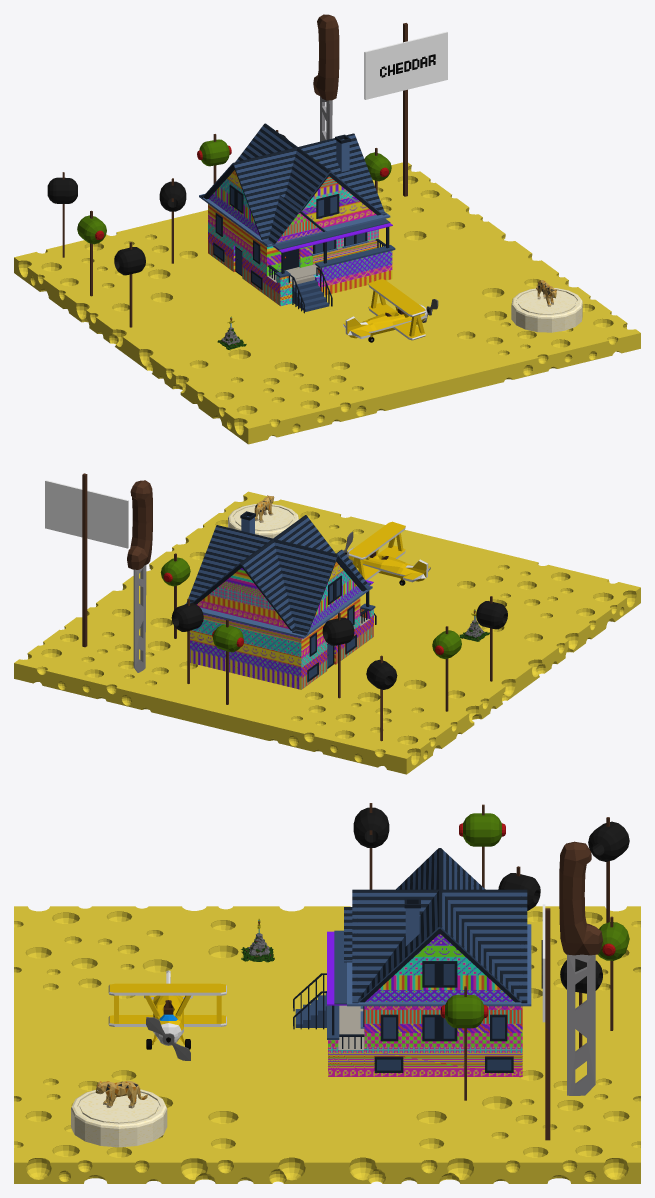
3 views of the same model, one above another, from view 1: azimuth 30°, elevation 25°; view 2: azimuth 150°, elevation 25°; view 3: azimuth 270°, elevation 25° (orthographic). The views are drawn at different scales.
Parts seen in each view (by area): view 1: Cube.022, Cube.676, Cube.023, VEHICLES_AIRPLANE, Cylinder.016, Cube.024, Sphere.017, Sphere.016, Sphere.020, Sphere.018, Sphere.022, Sphere.019; view 2: Cube.022, Cube.676, Cube.023, Cube.024, VEHICLES_AIRPLANE, Cylinder.016, Sphere.017, Sphere.020, Sphere.021, Sphere.016, Sphere.018, Sphere.022 (+1 smaller); view 3: Cube.022, Cube.676, Cube.024, VEHICLES_AIRPLANE, Cylinder.016, Cube.023, Sphere.019, Sphere.016, Sphere.018, Sphere.017, Sphere.022, ANIMAL_JAGUAR (+3 smaller).
Boxes of the visible parts, x1,y1,x2,y2 form: Cube.022: (14, 162, 640, 444); Cube.676: (199, 123, 395, 313); Cube.023: (364, 23, 447, 196); VEHICLES_AIRPLANE: (343, 279, 438, 342); Cylinder.016: (511, 288, 582, 332); Cube.024: (313, 14, 339, 141); Sphere.017: (114, 242, 145, 327); Sphere.016: (47, 172, 77, 257); Sphere.020: (159, 178, 186, 263); Sphere.018: (77, 210, 106, 296); Sphere.022: (197, 134, 231, 183); Sphere.019: (364, 148, 391, 192); Cube.022: (14, 491, 640, 774); Cube.676: (184, 511, 376, 689); Cube.023: (45, 473, 128, 647); Cube.024: (127, 480, 152, 672); VEHICLES_AIRPLANE: (343, 521, 430, 585); Cylinder.016: (228, 504, 298, 538); Sphere.017: (476, 596, 507, 681); Sphere.020: (322, 612, 354, 698); Sphere.021: (171, 598, 203, 683); Sphere.016: (366, 655, 397, 741); Sphere.018: (432, 626, 461, 711); Sphere.022: (212, 619, 244, 704); Cube.022: (14, 906, 640, 1183); Cube.676: (293, 848, 531, 1076); Cube.024: (559, 841, 602, 1095); VEHICLES_AIRPLANE: (108, 970, 226, 1060); Cylinder.016: (71, 1089, 167, 1147); Cube.023: (541, 904, 550, 1140); Sphere.019: (441, 986, 487, 1100); Sphere.016: (588, 817, 629, 922); Sphere.018: (459, 804, 505, 888); Sphere.017: (353, 803, 389, 889); Sphere.022: (598, 916, 629, 1030); ANIMAL_JAGUAR: (95, 1081, 147, 1108).
Size of the model in its own units: 3917 by 2007 by 4000.
Materials: 48 (7 with a texture image).
